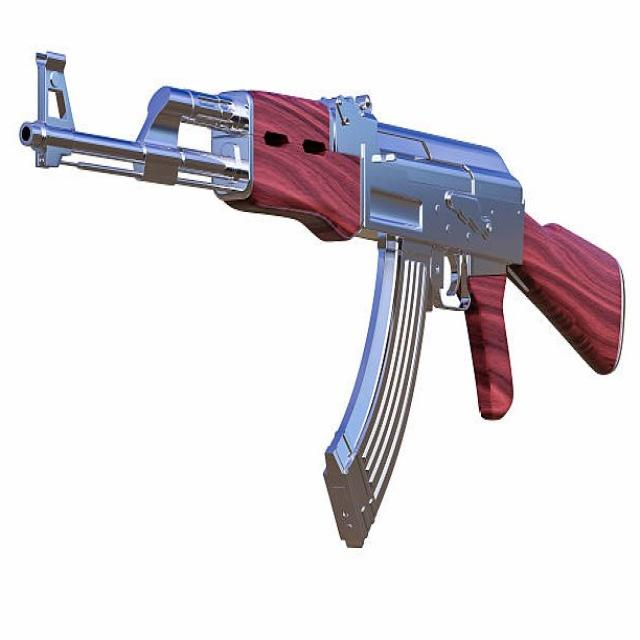rifle: (18, 36, 640, 556)
